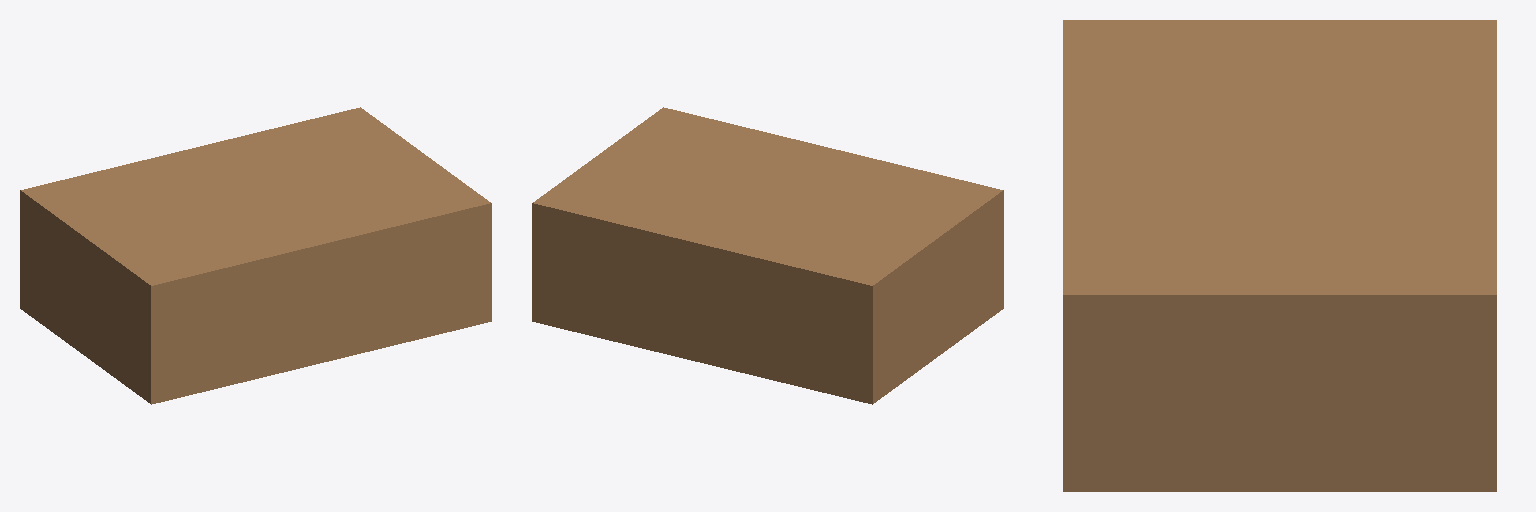
URDF robot description (box_large):
<?xml version="1.0"?>
<robot name="box_large">
  <link name="base_link">
    <inertial>
      <origin xyz="0 0 0.020000" rpy="0 0 0"/>
      <mass value="0.15"/>
      <inertia ixx="0.00010000" ixy="0" ixz="0" iyy="0.00020000" iyz="0" izz="0.00026000"/>
    </inertial>
    <visual>
      <origin xyz="0 0 0.020000" rpy="0 0 0"/>
      <geometry><box size="0.12 0.08 0.04"/></geometry>
      <material name="box_large_mat">
        <color rgba="0.7 0.55 0.4 1.0"/>
      </material>
    </visual>
    <collision>
      <origin xyz="0 0 0.020000" rpy="0 0 0"/>
      <geometry><box size="0.12 0.08 0.04"/></geometry>
    </collision>
  </link>
</robot>

--- Render facts (derived) ---
The picture shows the robot from 3 angles, left to right: view 1: azimuth 30°, elevation 25°; view 2: azimuth 150°, elevation 25°; view 3: azimuth 270°, elevation 25°; orthographic projection.
Model box_large with 1 links and 0 joints (none), rooted at base_link, posed all joints at 0.
Visible links, largest first — view 1: base_link; view 2: base_link; view 3: base_link.
Link boxes in pixels (x1,y1,x2,y2): base_link: [20, 107, 491, 404]; base_link: [532, 107, 1003, 404]; base_link: [1063, 20, 1496, 491].
Size in the robot's own frame: 0.12 by 0.08 by 0.04 metres.
Geometry: primitives only (box / cylinder / sphere), no mesh files.
